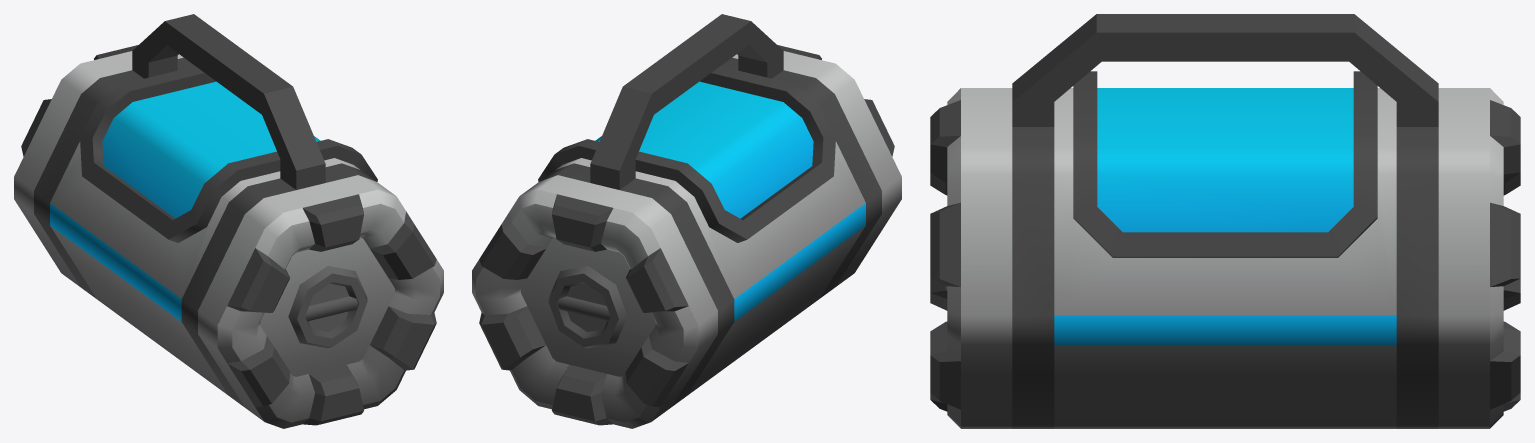
Rendered from Gas_can_011.fbx.
3 views of the same model, side by side, from view 1: azimuth 30°, elevation 25°; view 2: azimuth 150°, elevation 25°; view 3: azimuth 270°, elevation 25° (orthographic). The views are drawn at different scales.
Visible parts, largest first — view 1: Gas_can_011; view 2: Gas_can_011; view 3: Gas_can_011.
Boxes of the visible parts, x1,y1,x2,y2 form: Gas_can_011: [14, 14, 443, 428]; Gas_can_011: [472, 14, 901, 428]; Gas_can_011: [930, 14, 1520, 428].
Size of the model in its own units: 36.9 by 64.14 by 45.07.
